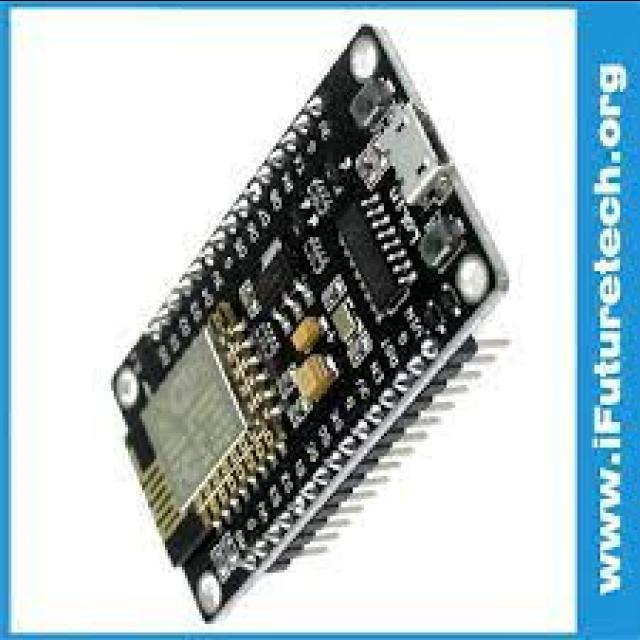Esp8266: (113, 27, 509, 621)
